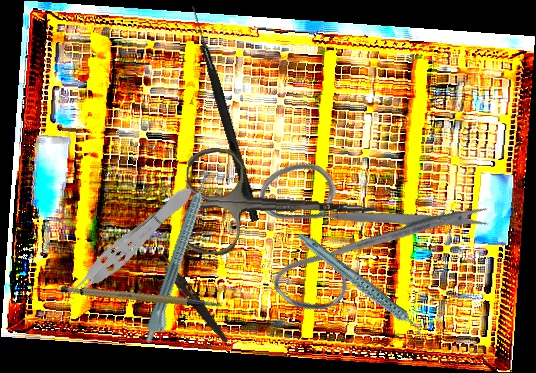Dressing Forceps: (153, 252, 233, 345)
Handpiece: (295, 210, 427, 363), (141, 167, 221, 348)
Hook Surgical: (185, 4, 263, 223)
Iris Scissors: (214, 81, 499, 366), (181, 146, 385, 266)
Scalpel Handle: (59, 264, 222, 333)
Tissue Forceps: (53, 178, 201, 311)
